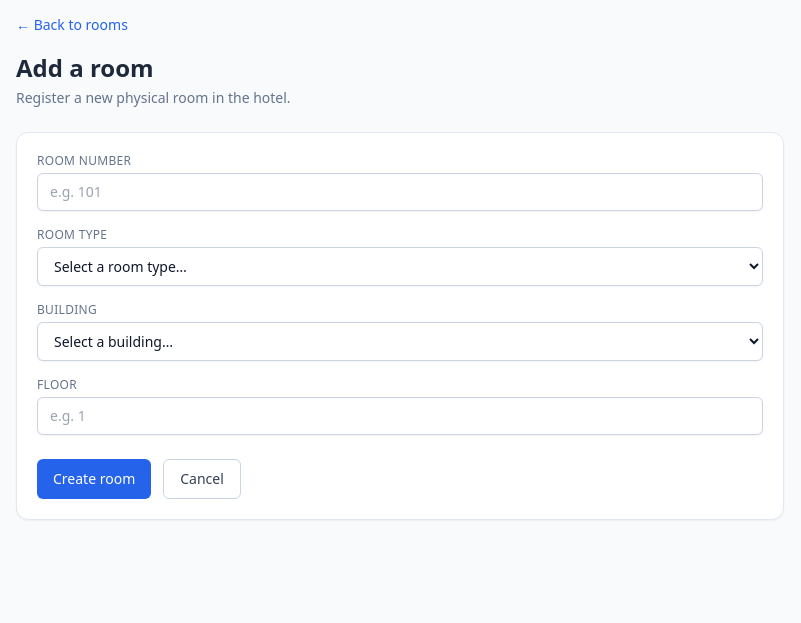
Test: Staff room form page › surfaces server 422 field errors
Type "102" into the field labelled "Room number" at (400, 192), box [37,173,763,211]
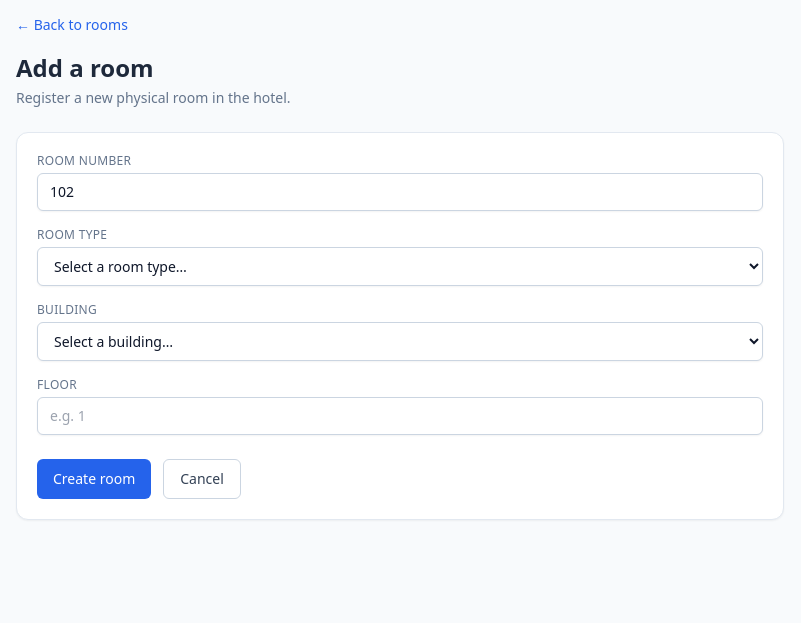
Select "Suite" in the dropdown labelled "Room type" at (400, 266), box [37,247,763,286]
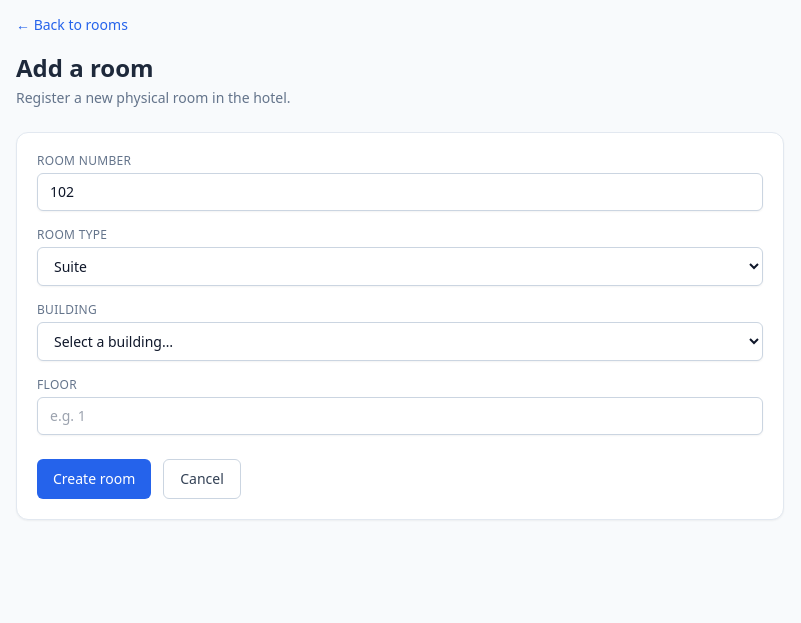
Select "East Wing" in the dropdown labelled "Building" at (400, 342), box [37,322,763,361]
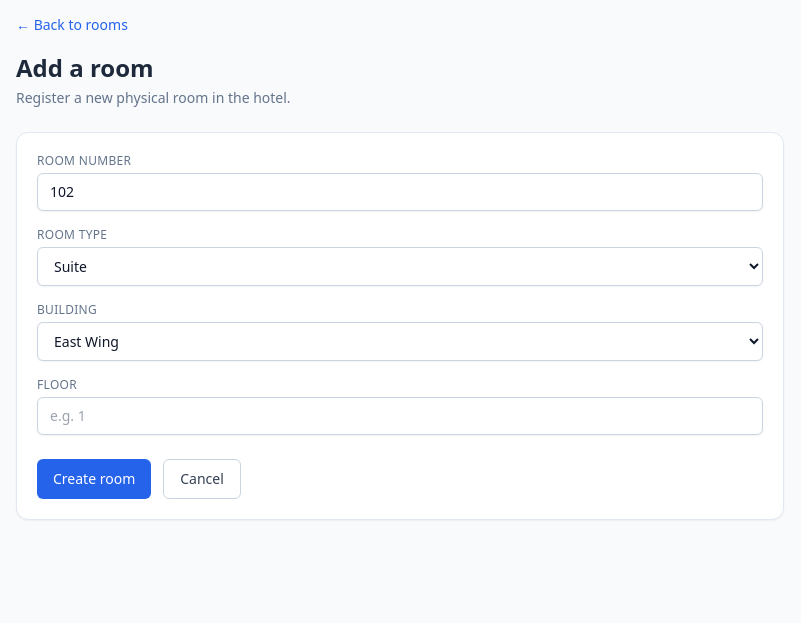
Type "1" into the number field labelled "Floor" at (400, 416), box [37,397,763,435]
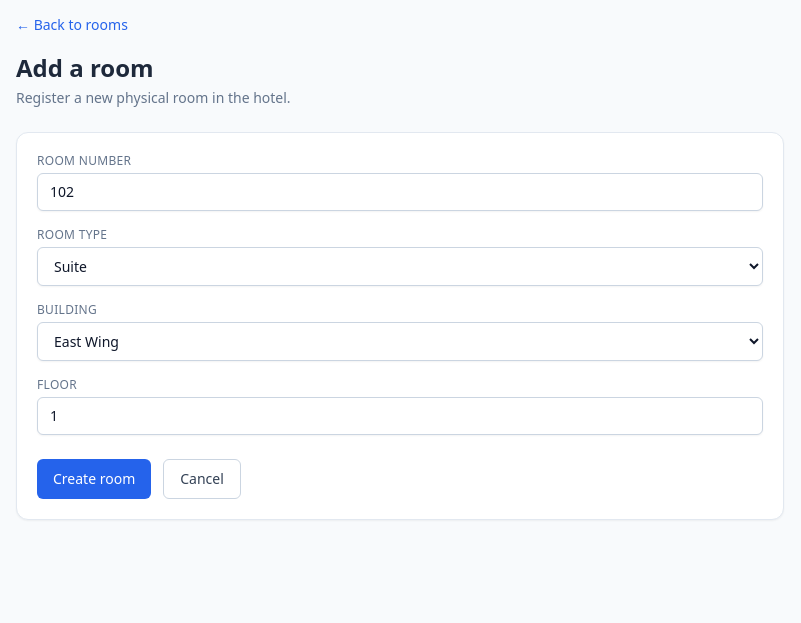
Click the button "Create room" at (94, 479), box [37,459,151,499]
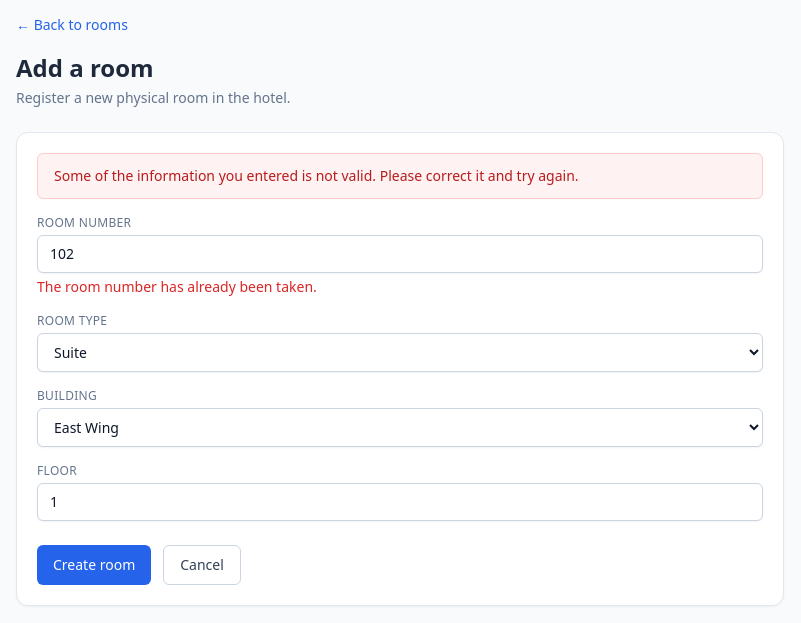
Check: the button "Create room" is shown, box [37,545,151,585]
Check: the text "The room number has already been taken." is shown, box [37,277,317,296]
